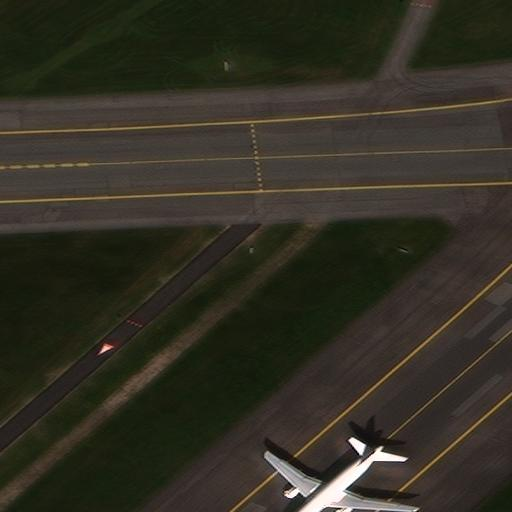Medium Civil Transport: (263, 440, 416, 512)
